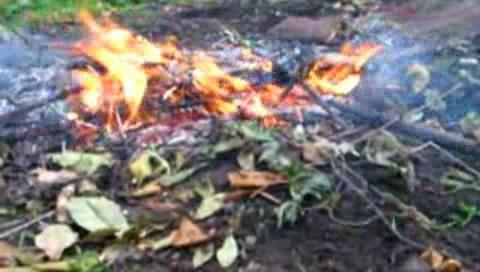fire: (75, 15, 386, 111)
